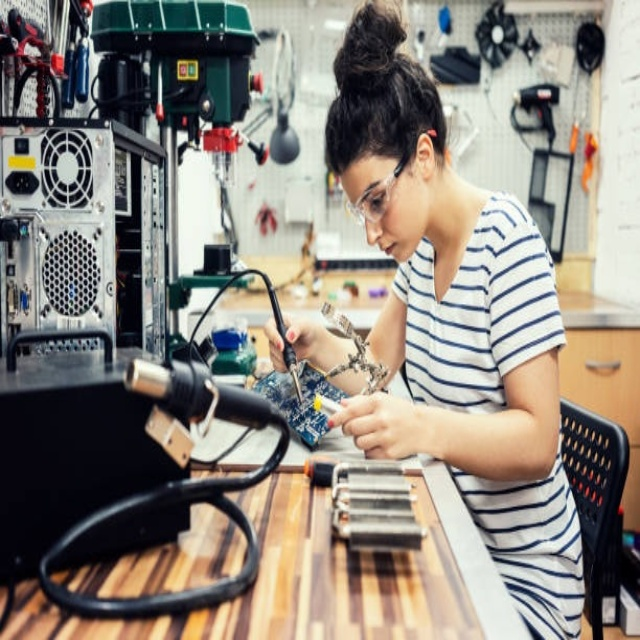Gafas: (346, 141, 421, 229)
Sin_guantes: (325, 389, 418, 463), (264, 309, 326, 373)
Sin_mascara: (368, 229, 411, 267)
